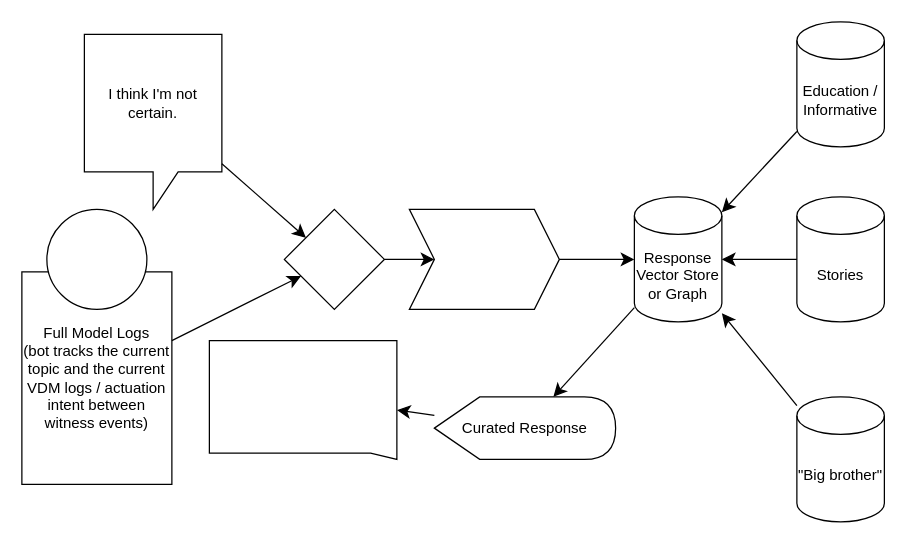
Image size: 906x544. Some labels were removed from this diagram. The shapes that lost their labels are listed below. From the top down, each one's centre as x and y in pixels, then its label:
At pixel 96 258: "VDM".
At pixel 333 258: "Logic".
At pixel 483 258: "Construct Query".
At pixel 302 399: "Alright, how about we talk about formal logic instead?".
